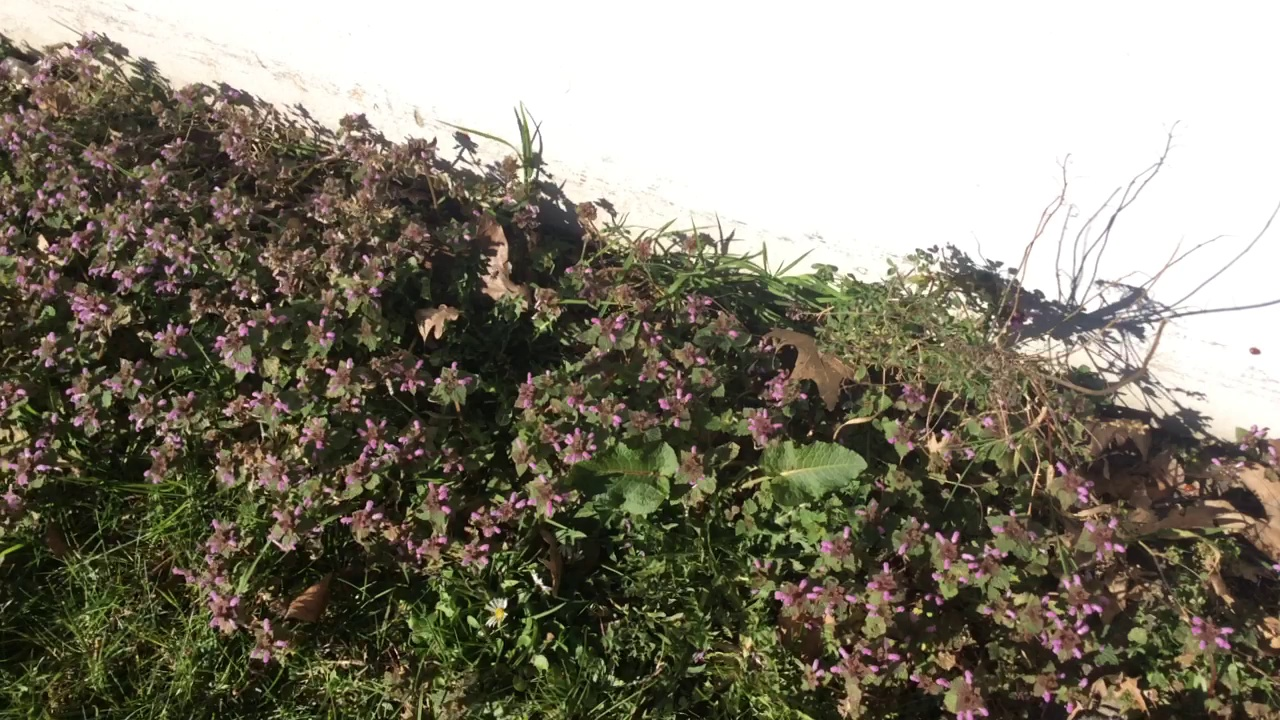rumex: (554, 438, 869, 514)
